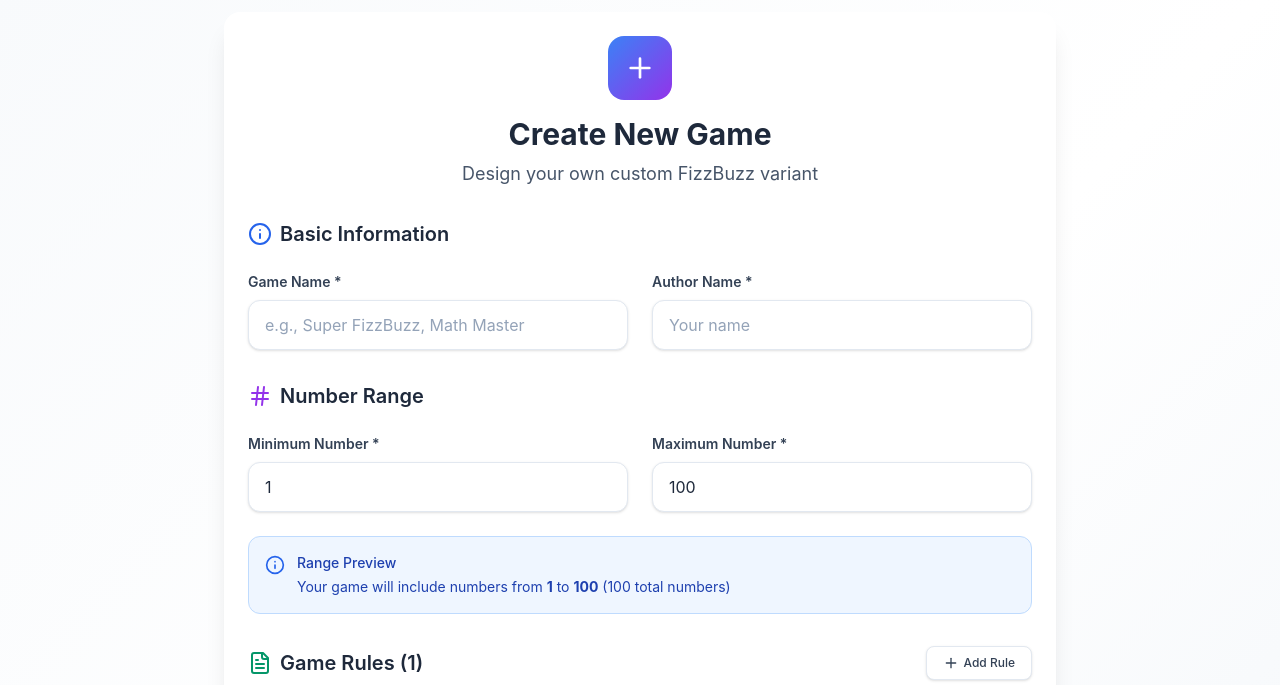
Test: CreateGameForm › allows adding and removing rules
The image size is (1280, 685).
Note: Add a rule
Click the button "Add Rule": (979, 663) top-left (926, 646), bottom-right (1032, 680)
(page scrolled)
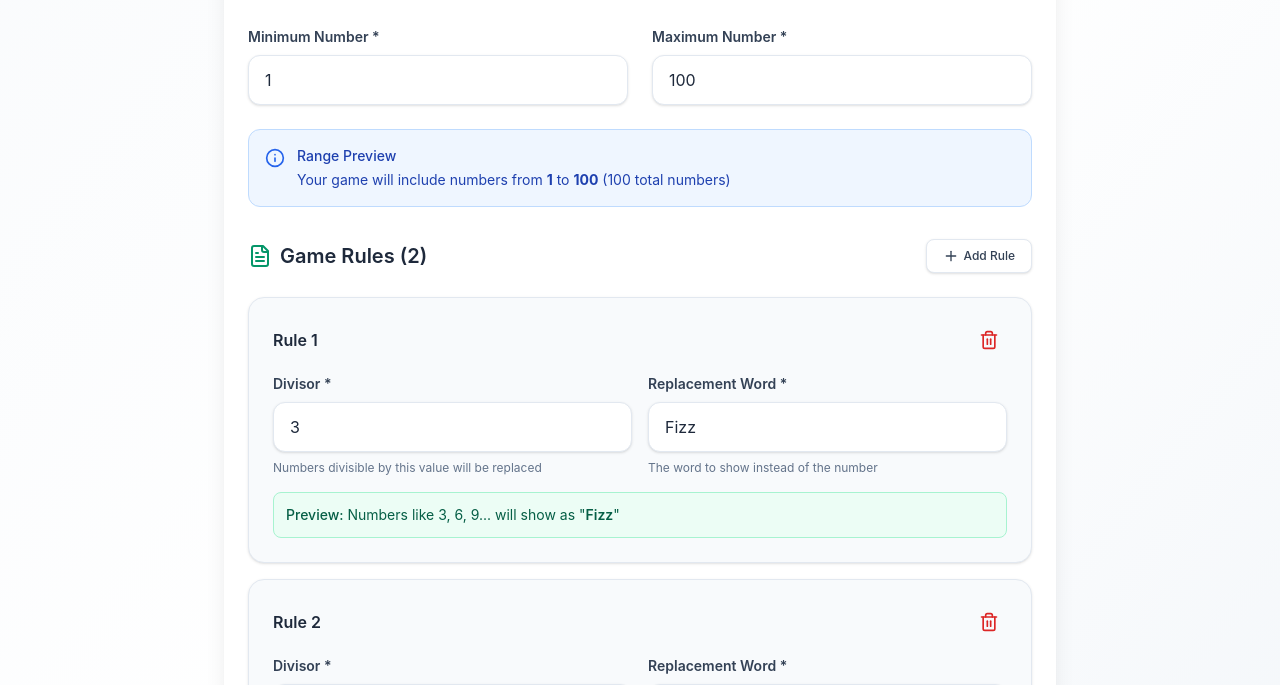
Result: the number of buttons titled "Remove rule" is 2
Click the 1st button titled "Remove rule": (989, 340) top-left (971, 322), bottom-right (1007, 358)
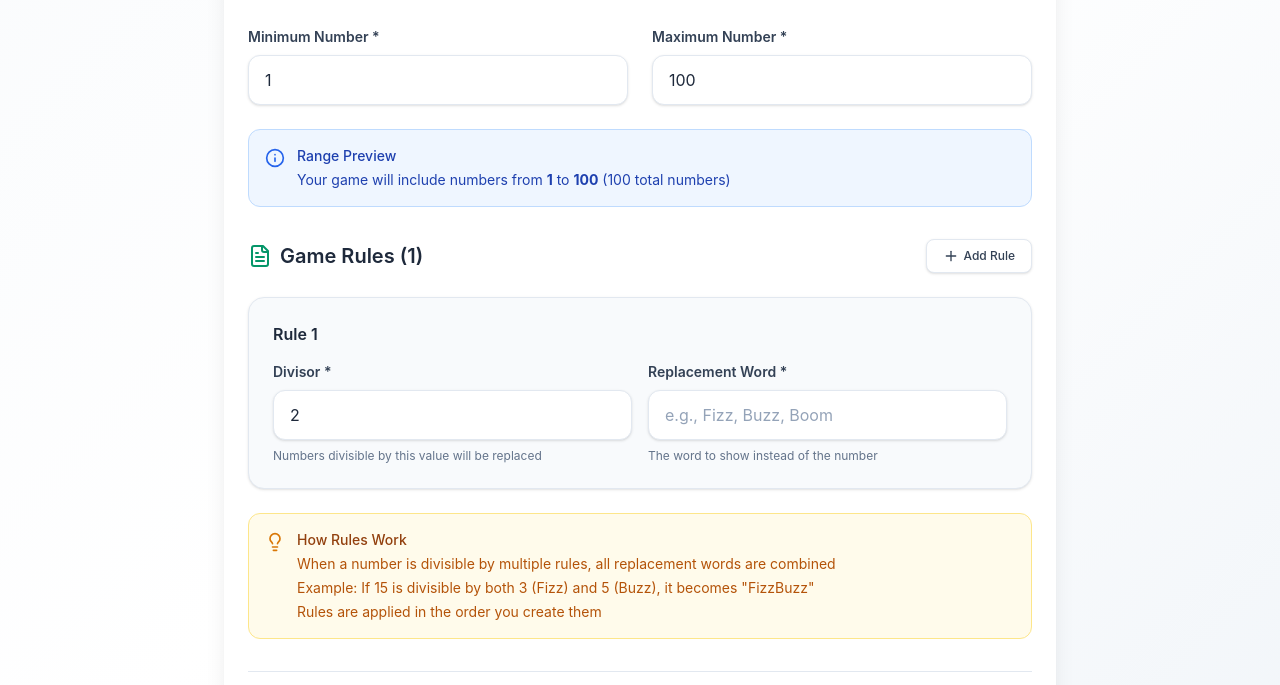
Result: the number of number fields with placeholder "e.g., 3, 5, 7" is 1 at top-left (273, 390), bottom-right (632, 440)
